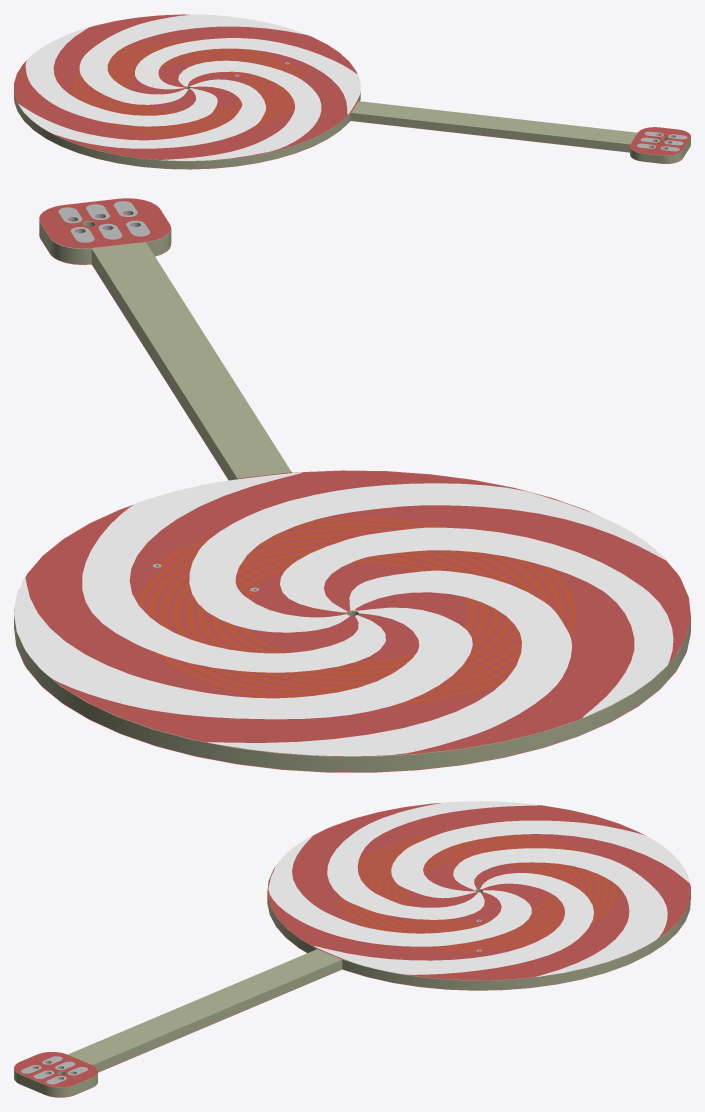
Rendered from lollipop-sao-with-nfc.glb.
3 views of the same model, one above another, from view 1: azimuth 30°, elevation 25°; view 2: azimuth 150°, elevation 25°; view 3: azimuth 270°, elevation 25° (orthographic). The views are drawn at different scales.
Visible parts, largest first — view 1: =>[0:1:1:8], =>[0:1:1:6], =>[0:1:1:4], =>[0:1:1:2]; view 2: =>[0:1:1:8], =>[0:1:1:6], =>[0:1:1:4], =>[0:1:1:2]; view 3: =>[0:1:1:8], =>[0:1:1:6], =>[0:1:1:4], =>[0:1:1:2].
Boxes of the visible parts, x1,y1,x2,y2 form: =>[0:1:1:8]: [14, 15, 690, 169]; =>[0:1:1:6]: [14, 14, 690, 169]; =>[0:1:1:4]: [18, 14, 360, 160]; =>[0:1:1:2]: [74, 41, 687, 151]; =>[0:1:1:8]: [14, 199, 690, 772]; =>[0:1:1:6]: [14, 198, 690, 772]; =>[0:1:1:4]: [14, 472, 673, 756]; =>[0:1:1:2]: [58, 201, 575, 704]; =>[0:1:1:8]: [14, 804, 690, 1097]; =>[0:1:1:6]: [14, 803, 690, 1097]; =>[0:1:1:4]: [268, 801, 690, 976]; =>[0:1:1:2]: [21, 835, 615, 1084].
Bounding box in the file's own units: 0.0958 × 0.00166 × 0.0958.
4 materials, 4 textured.
